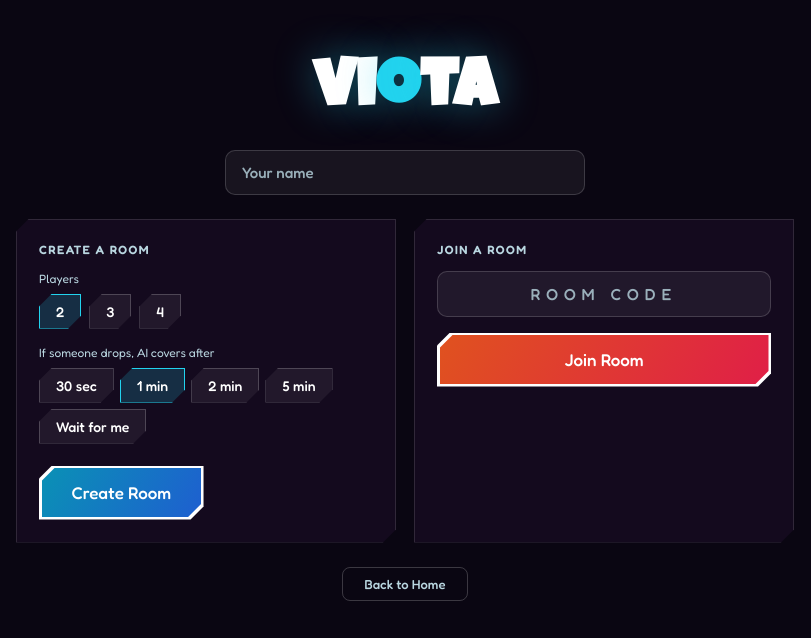
Scenario: a create requires a name
The image size is (811, 638).
Click the button "Create Room". click: (121, 492)
box: [39,466,204,520]
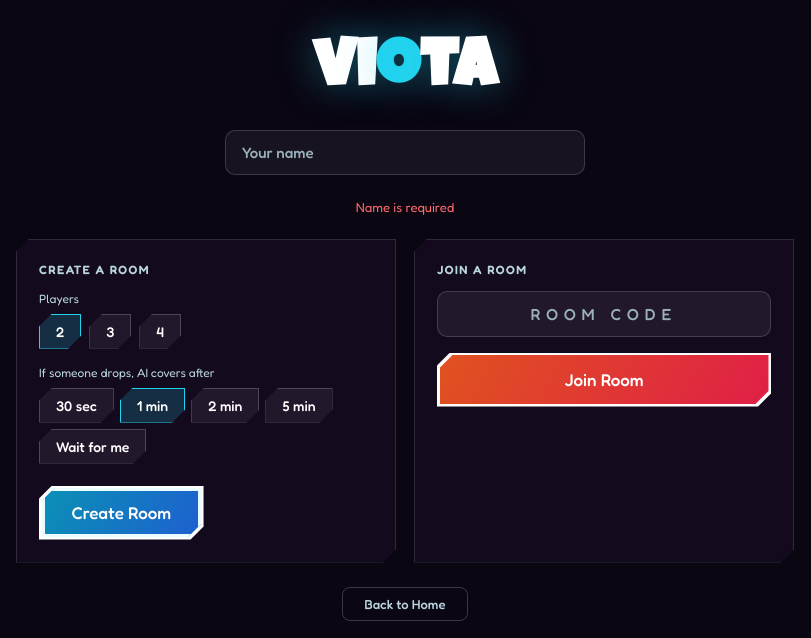
Expected: the text "Name is required" is shown, [356,198,454,214]
